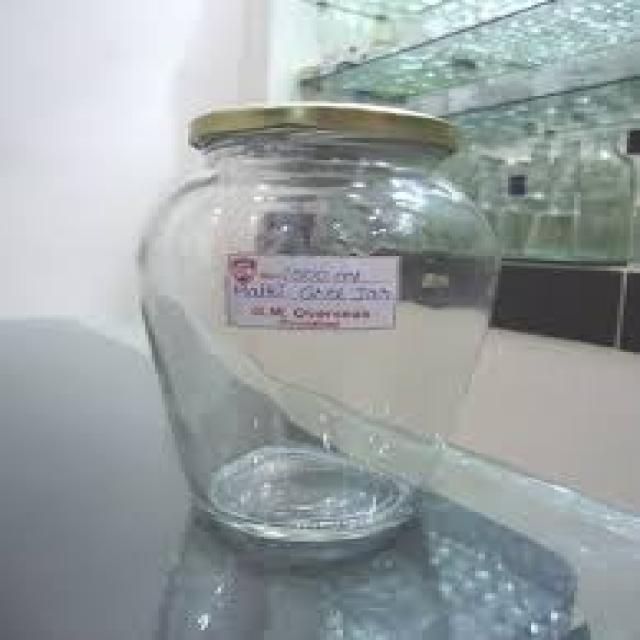Dry Waste: (129, 99, 501, 556)
